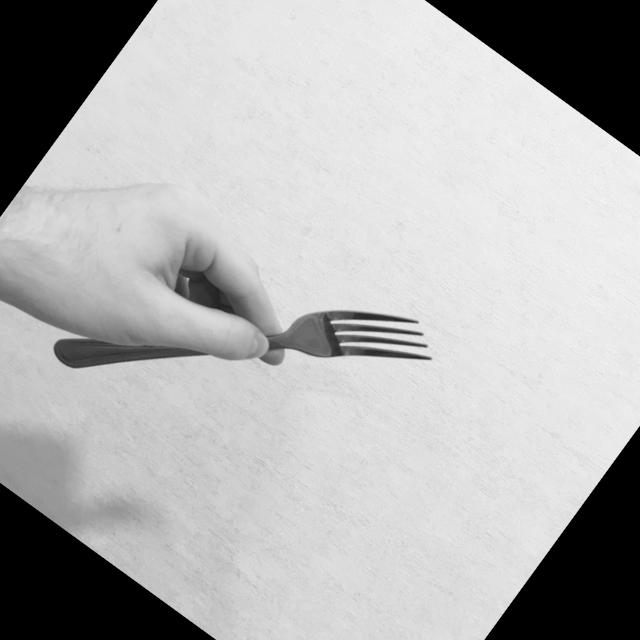fork: (43, 155, 446, 542)
